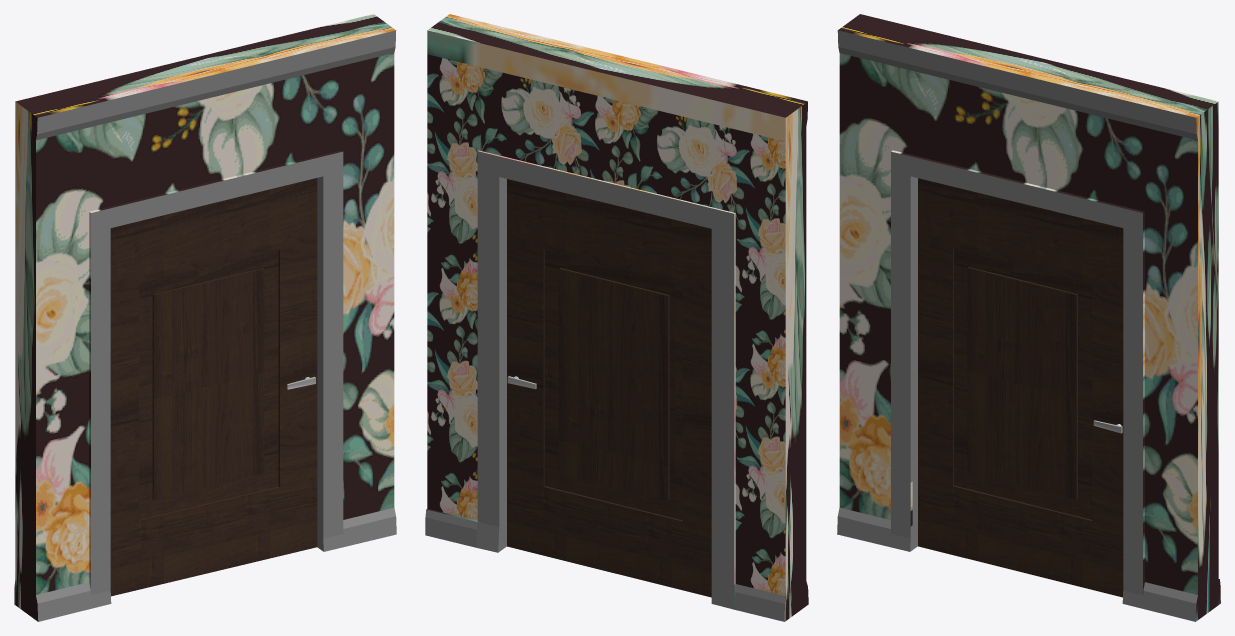
The model's file is PS1Door.glb.
3 renders of one model, left to right at view 1: azimuth 30°, elevation 25°; view 2: azimuth 150°, elevation 25°; view 3: azimuth 330°, elevation 25°, orthographic.
Visible parts, largest first — view 1: DoorFrame, Door; view 2: DoorFrame, Door; view 3: DoorFrame, Door.
Boxes of the visible parts, <box> form: DoorFrame: <box>14,14,396,621</box>; Door: <box>110,178,317,596</box>; DoorFrame: <box>425,14,808,621</box>; Door: <box>507,179,711,597</box>; DoorFrame: <box>837,14,1220,621</box>; Door: <box>918,178,1123,597</box>.
Bounding box in the file's own units: 2 × 2.68 × 0.2434.
4 materials, 3 textured.
